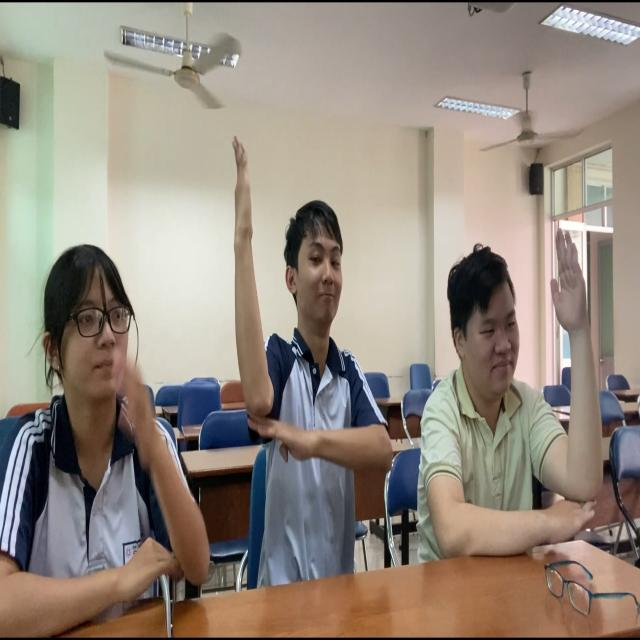raise_hand: (223, 128, 398, 578), (416, 204, 614, 584)
